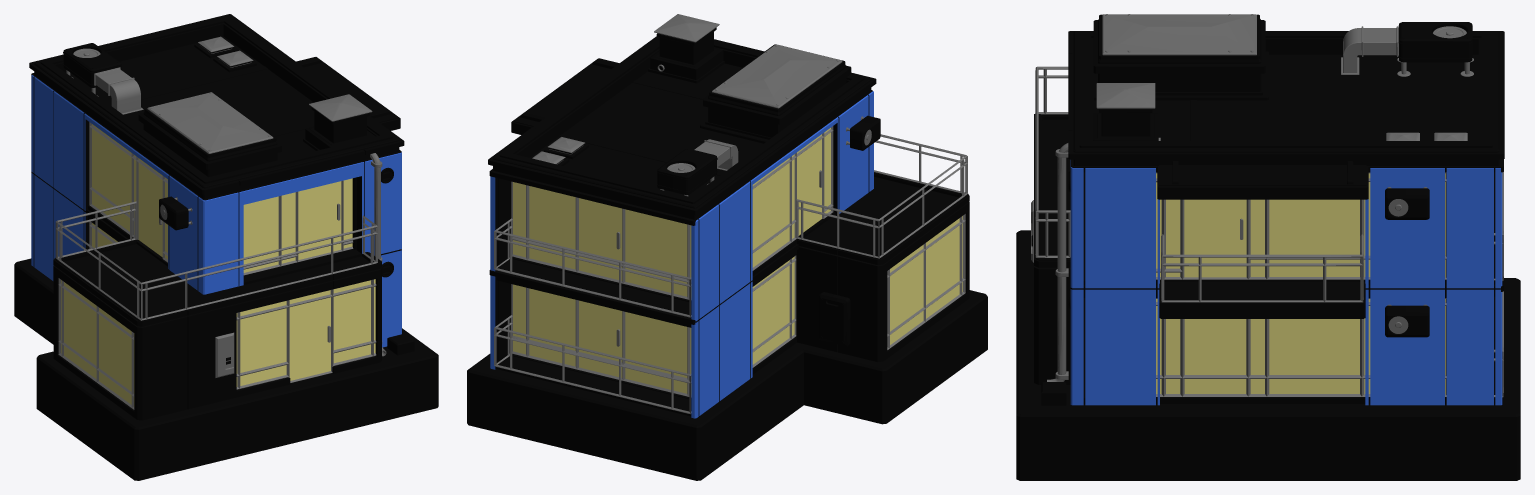
The model's file is City.fbx.
3 renders of one model, left to right at view 1: azimuth 30°, elevation 25°; view 2: azimuth 150°, elevation 25°; view 3: azimuth 270°, elevation 25°, orthographic. The views are drawn at different scales.
Parts seen in each view (by area): view 1: Plane.059; view 2: Plane.059; view 3: Plane.059.
Boxes of the visible parts, x1,y1,x2,y2 form: Plane.059: (14, 14, 438, 480); Plane.059: (467, 14, 987, 480); Plane.059: (1016, 14, 1520, 480).
Size of the model in its own units: 107 by 91.2 by 117.
